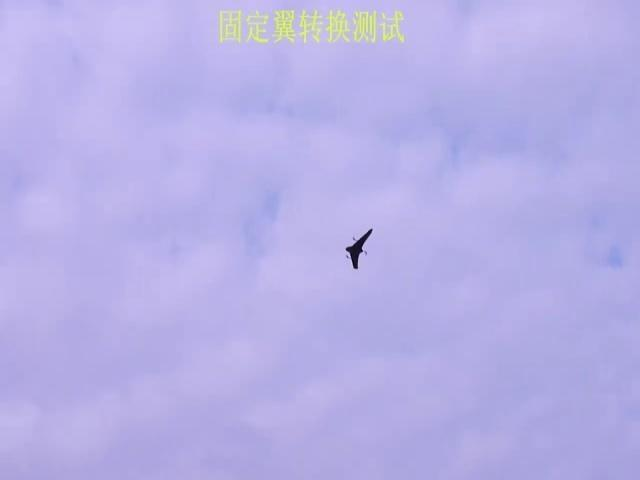Airplane: (345, 229, 373, 268)
